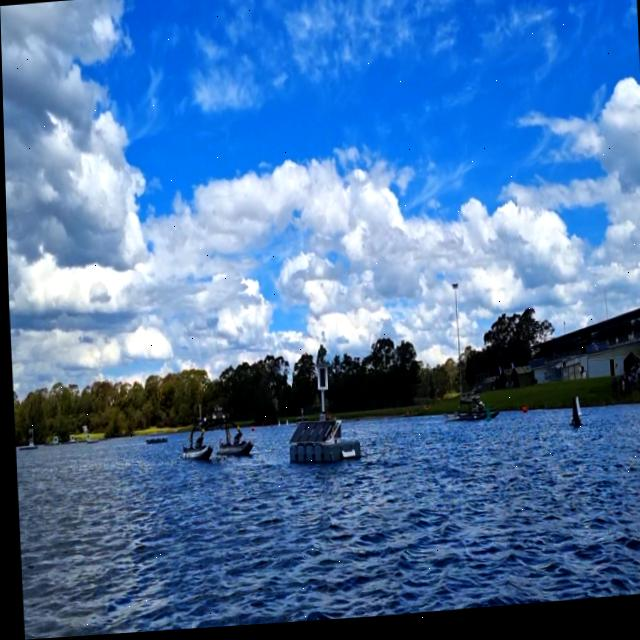led: (316, 370, 324, 393)
